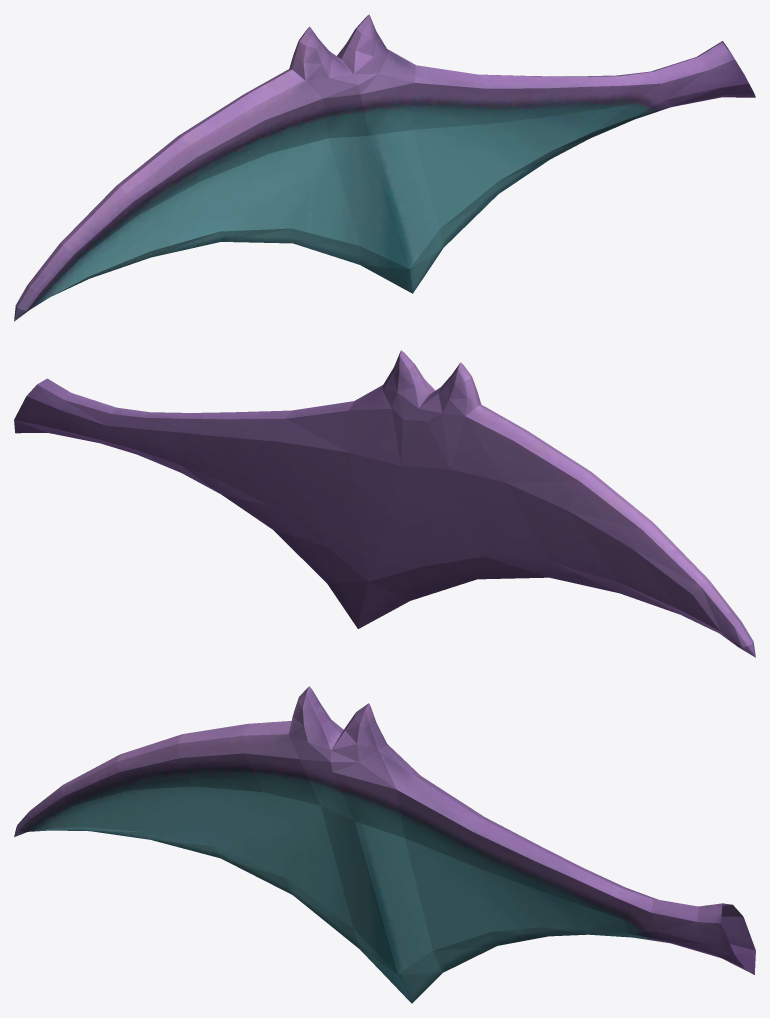
File: 0037_HT_FX_ChaZiFu_chibang.glb
3 renders of one model, top to bottom at view 1: azimuth 30°, elevation 25°; view 2: azimuth 150°, elevation 25°; view 3: azimuth 330°, elevation 25°, orthographic.
Size of the model in its own units: 2.2 by 0.8292 by 0.1272.
1 material, 1 textured.
